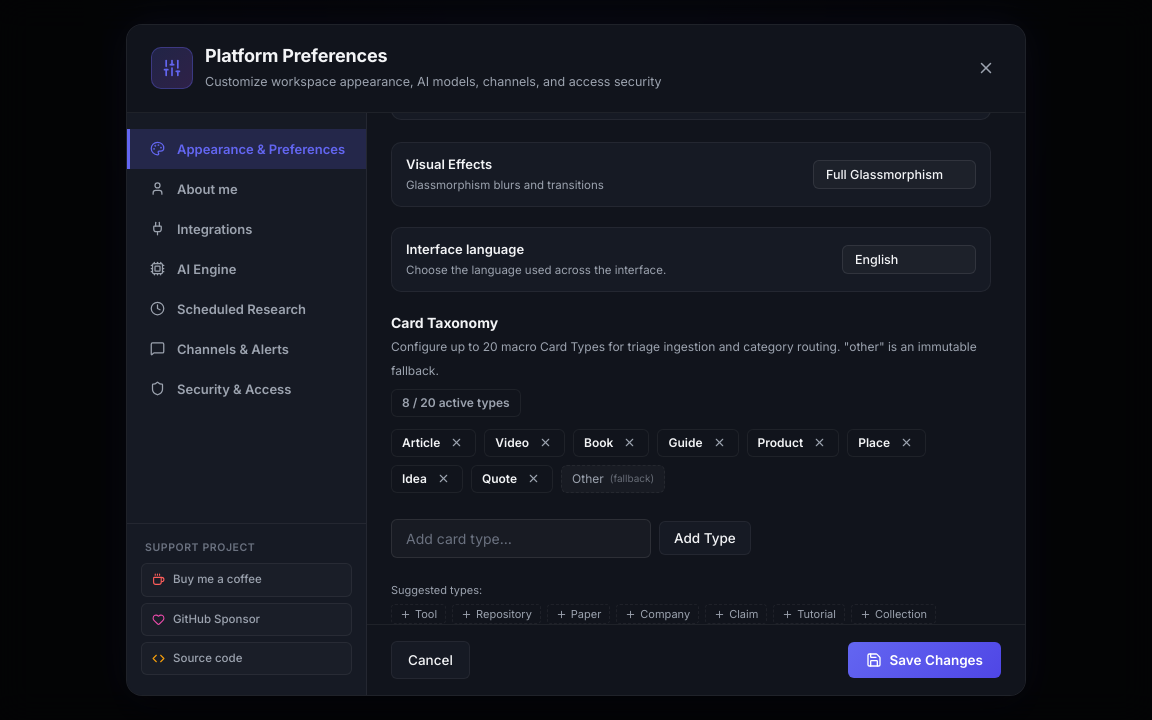
Card Taxonomy Management in Platform Preferences › allows removing a card type and updates active count
(page scrolled)
Expected: the text "8 / 20 active types" is shown, [391,389,521,417]
Click the button named "Remove Quote".
click(534, 479)  # box [525,470,542,487]
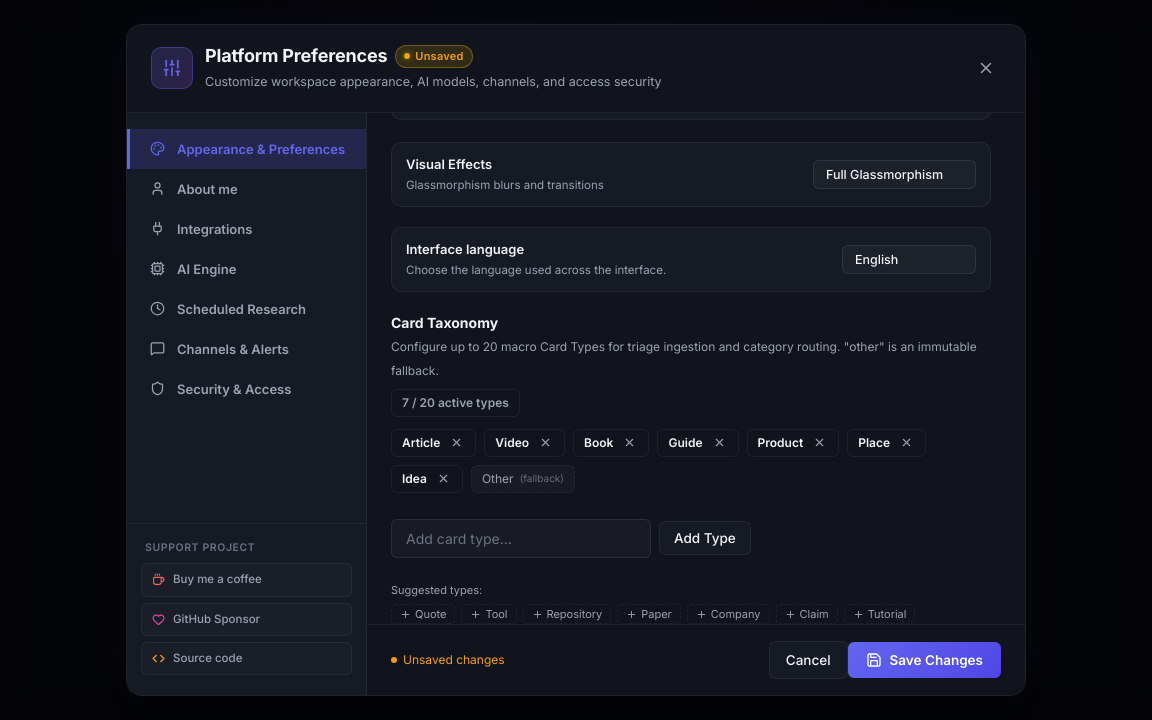
Expected: the text "7 / 20 active types" is shown, [391,389,520,417]
Expected: the button with aria-label "Add Quote" is shown, [391,604,455,624]
